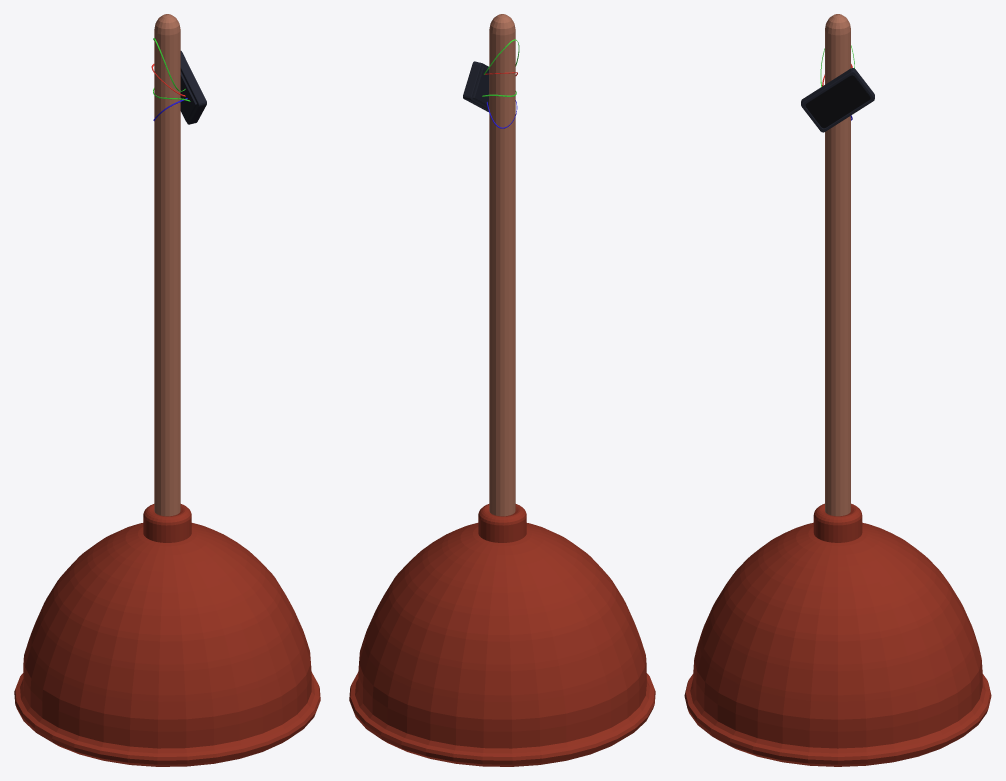
File: Plunger.fbx
3 renders of one model, left to right at view 1: azimuth 30°, elevation 25°; view 2: azimuth 150°, elevation 25°; view 3: azimuth 270°, elevation 25°, orthographic.
Visible parts, largest first — view 1: Torus.001, Cylinder, Cube.001; view 2: Torus.001, Cylinder, Cube.001; view 3: Torus.001, Cylinder, Cube.001.
Boxes of the visible parts, <box> form: Torus.001: <box>14,504,320,766</box>; Cylinder: <box>154,14,180,516</box>; Cube.001: <box>180,51,206,124</box>; Torus.001: <box>349,504,655,766</box>; Cylinder: <box>489,14,515,516</box>; Cube.001: <box>463,61,489,111</box>; Torus.001: <box>684,503,991,766</box>; Cylinder: <box>825,14,850,516</box>; Cube.001: <box>801,68,874,132</box>.
Bounding box in the file's own units: 23.37 × 58.22 × 23.37.
